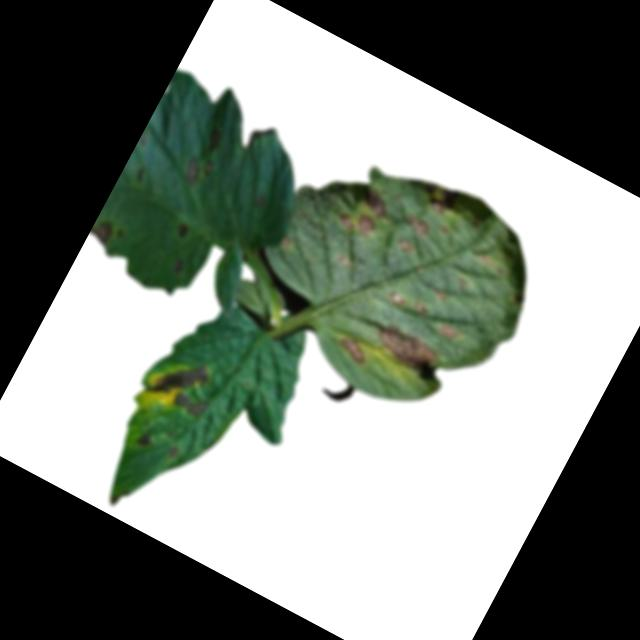Early_blight: (368, 319, 446, 380), (146, 347, 212, 412), (412, 176, 461, 220), (331, 200, 379, 242), (178, 151, 217, 191), (168, 388, 211, 424), (357, 184, 397, 221), (334, 334, 374, 368), (401, 210, 436, 241), (199, 125, 228, 159), (86, 217, 117, 248), (434, 318, 461, 344), (384, 288, 410, 312), (393, 234, 417, 258), (171, 221, 193, 245), (409, 297, 432, 319), (134, 429, 156, 451), (163, 442, 185, 463), (169, 257, 187, 278)
